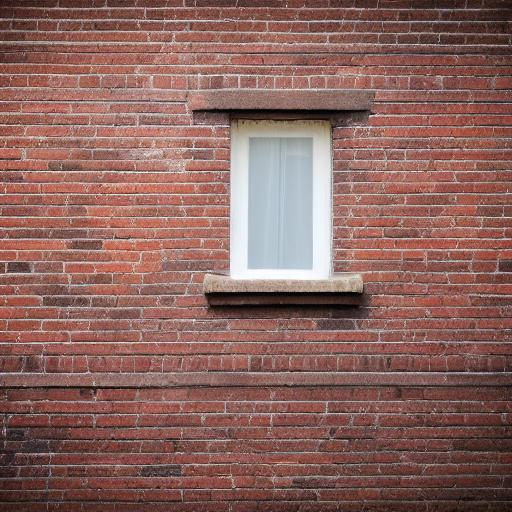Window: (192, 94, 374, 308)
